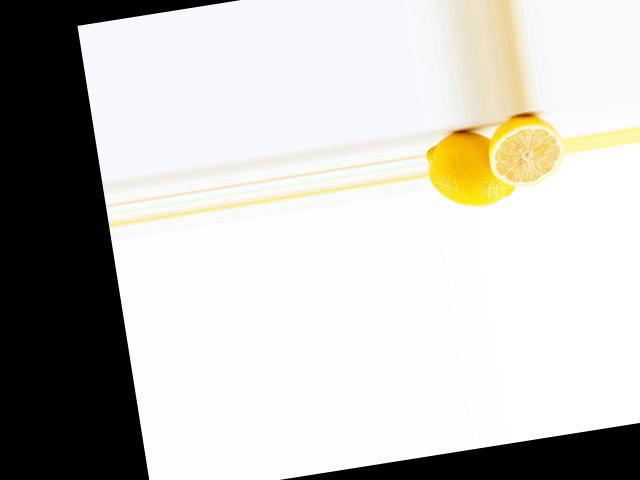lemon: (424, 119, 519, 215)
